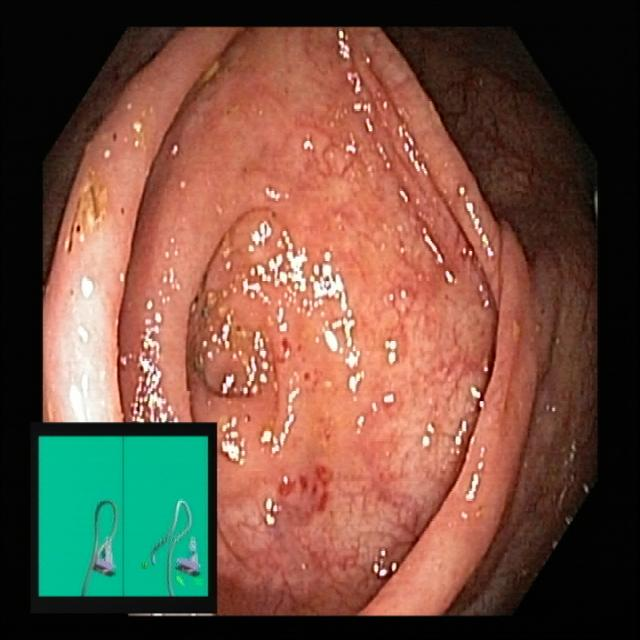normal-cecum: (177, 283, 270, 402), (257, 440, 353, 538), (58, 166, 117, 268)
